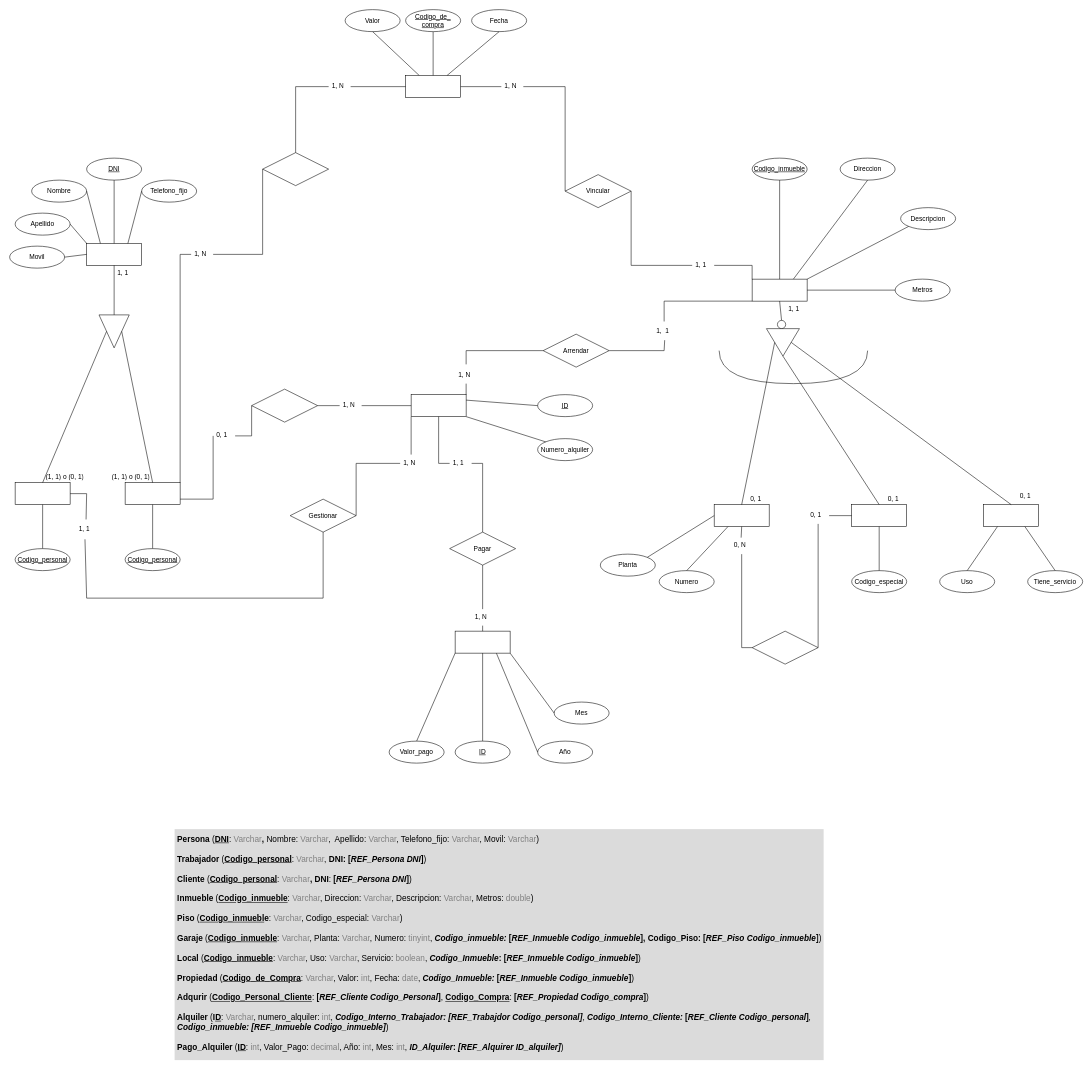
This 1092x1072 diagram has some shape labels left out. Each missing label, with the centre of its shape:
Adquirir: the point at 295,169
Alquilar: the point at 284,405
Alquiler: the point at 438,405
Asociar: the point at 785,647
Cliente: the point at 152,493
Garaje: the point at 741,515
Inmueble: the point at 779,290
Local: the point at 1011,515
Pago_alquiler: the point at 482,642
Persona: the point at 114,254
Piso: the point at 879,515
Propiedad: the point at 433,86
Trabajador: the point at 42,493
